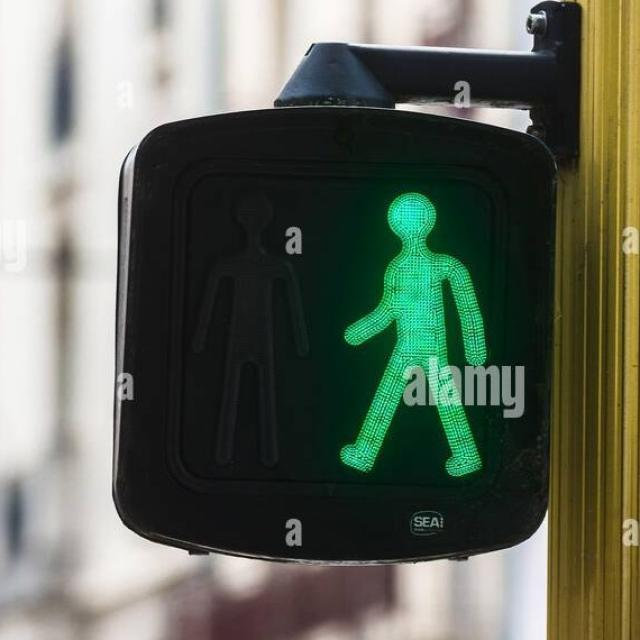geen-crossing: (332, 182, 494, 490)
